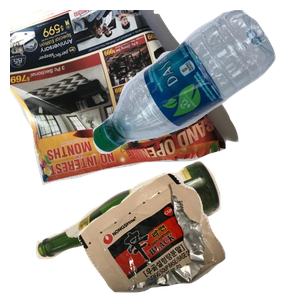glass: (33, 158, 246, 300)
paper: (10, 10, 241, 188)
plastic: (90, 10, 300, 156)
trash: (76, 170, 300, 300)
